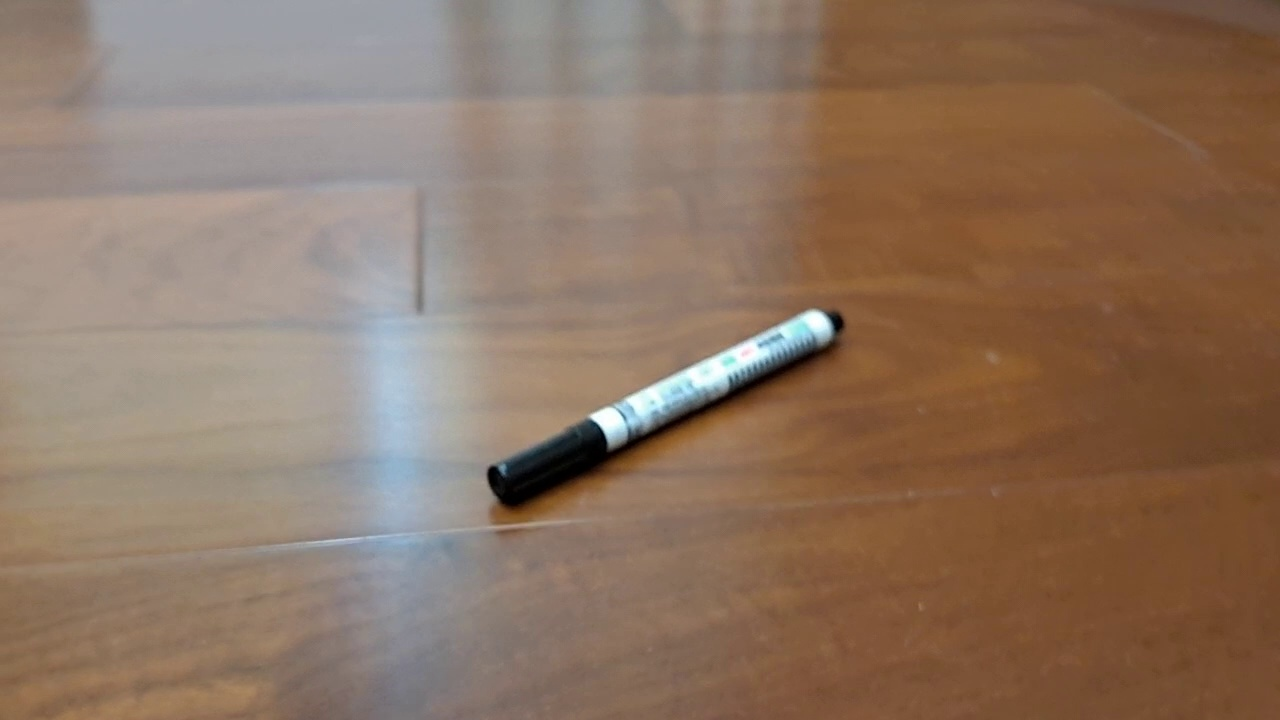pen: (486, 307, 845, 508)
